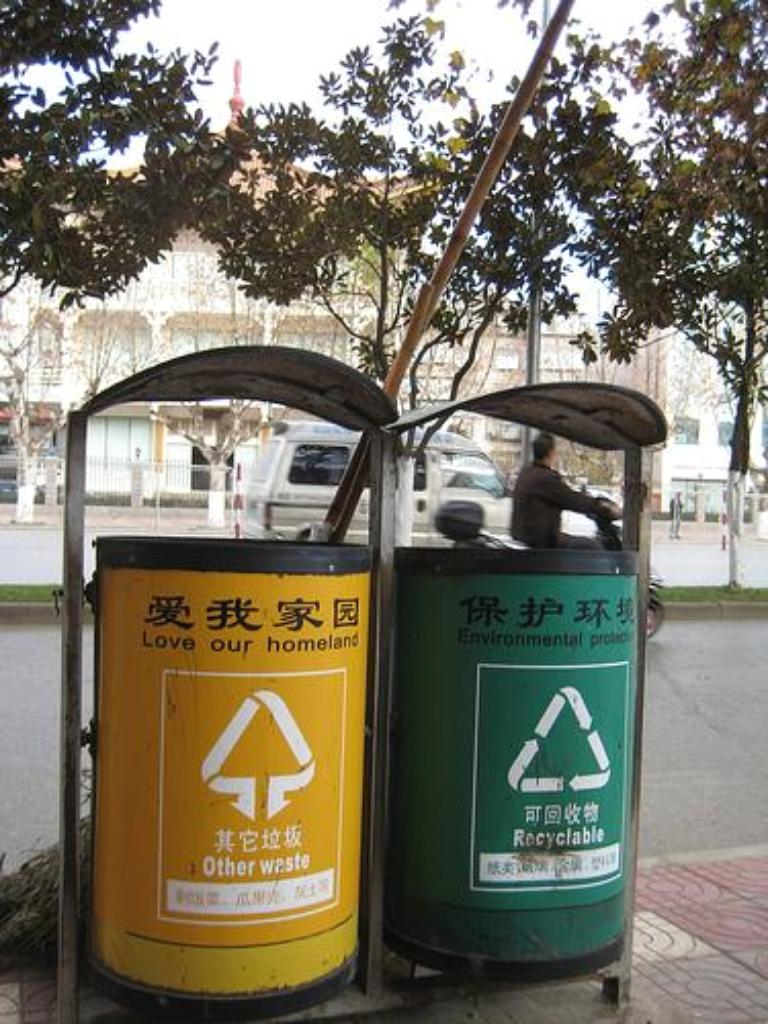dustbin: (57, 330, 675, 1024)
